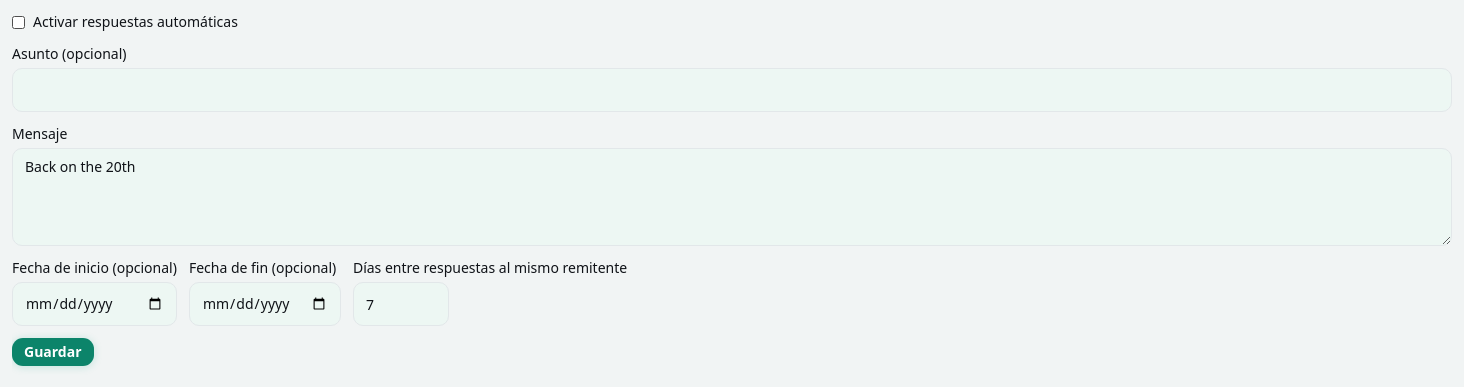
Test case: VacationSettings › saves the edited settings
Click the checkbox labelled "Activar respuestas automáticas": (18, 22) [12, 16, 25, 28]
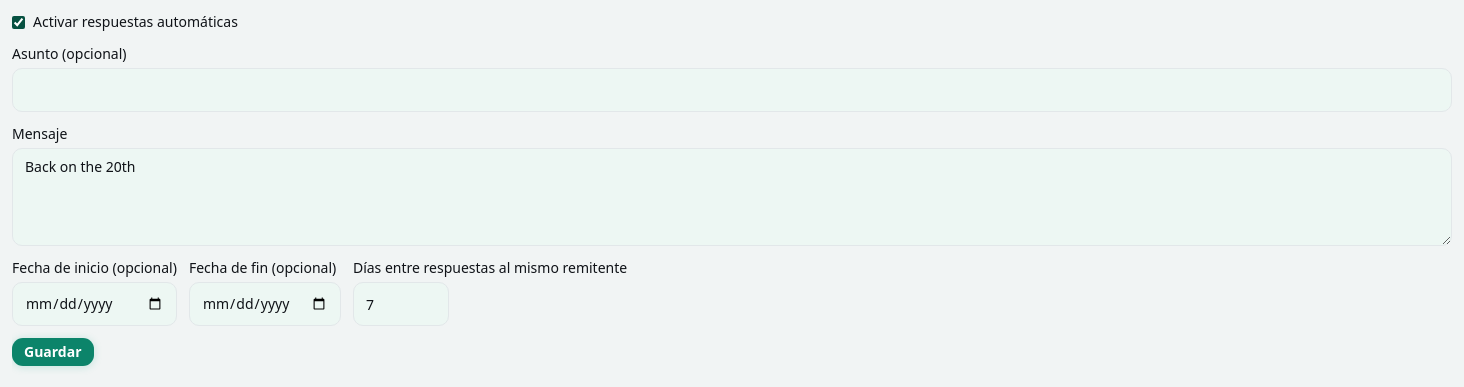
Click the button "Guardar": (53, 352) [12, 338, 94, 366]
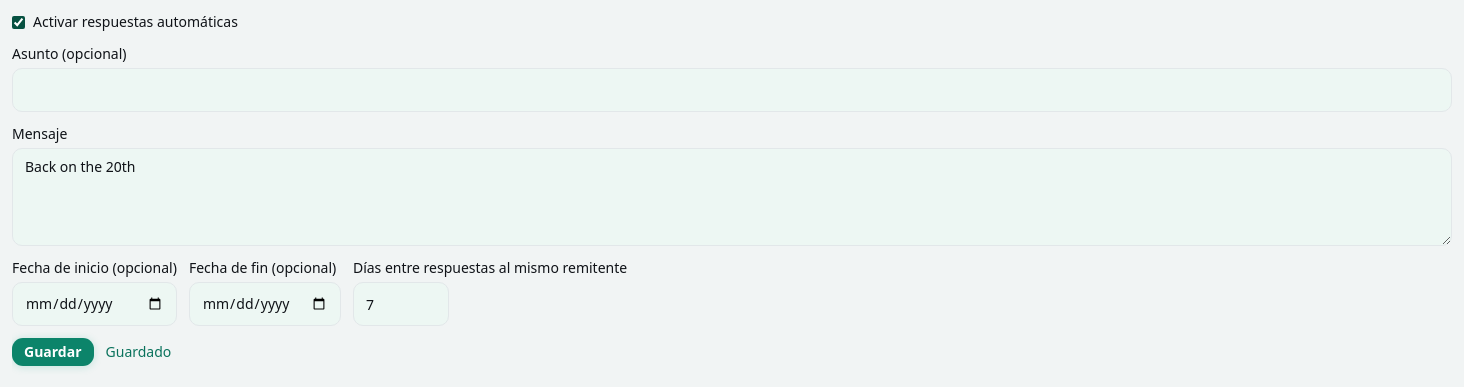
Expected: the text "Guardado" is shown, [106, 342, 171, 362]
